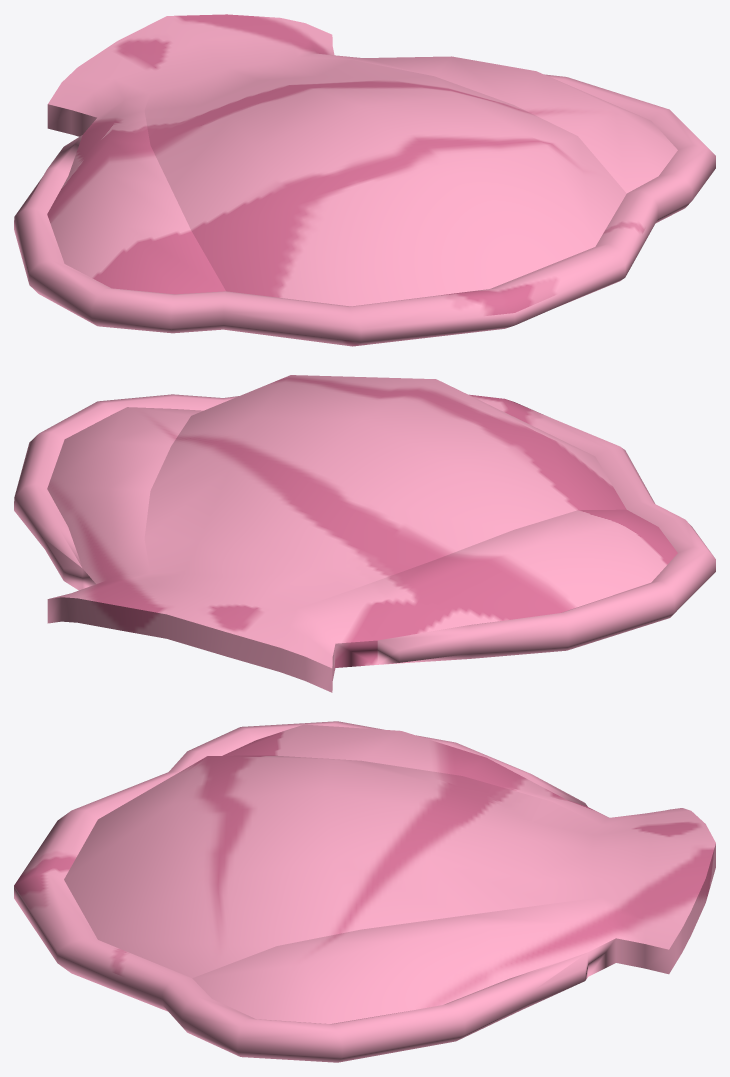
File: Combat_ClamShield.fbx
3 renders of one model, top to bottom at view 1: azimuth 30°, elevation 25°; view 2: azimuth 150°, elevation 25°; view 3: azimuth 270°, elevation 25°, orthographic.
Parts seen in each view (by area): view 1: pCylinder7; view 2: pCylinder7; view 3: pCylinder7.
Boxes of the visible parts, x1,y1,x2,y2 form: pCylinder7: (14, 14, 715, 346); pCylinder7: (14, 375, 715, 692); pCylinder7: (14, 721, 715, 1062).
Bounding box in the file's own units: 7.27 × 1.27 × 6.79.
1 material, 1 textured.
